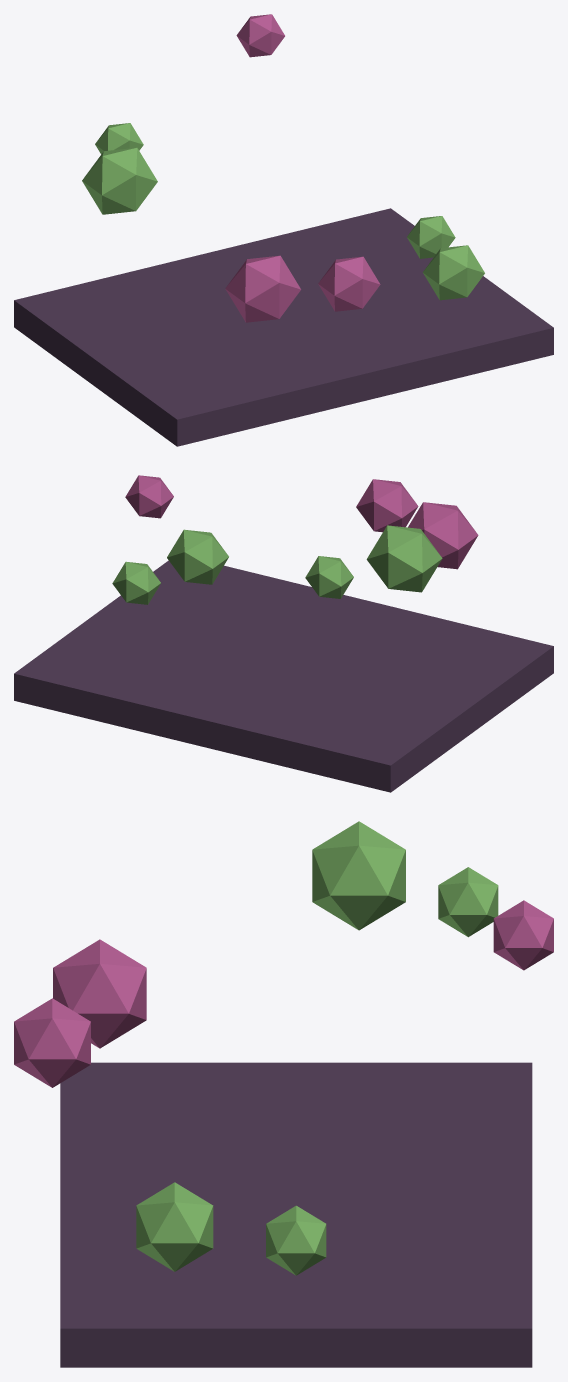
File: firefly_grove.glb
3 views of the same model, one above another, from view 1: azimuth 30°, elevation 25°; view 2: azimuth 150°, elevation 25°; view 3: azimuth 270°, elevation 25° (orthographic). The views are drawn at different scales.
Visible parts, largest first — view 1: habitat_base, seed_5, seed_2, seed_1, seed_4, seed_3, seed_0, seed_6; view 2: habitat_base, seed_2, seed_5, seed_4, seed_1, seed_3, seed_0, seed_6; view 3: habitat_base, seed_2, seed_5, seed_4, seed_1, seed_3, seed_0, seed_6.
Boxes of the visible parts, left/top/right/bottom form: habitat_base: left=14, top=208, right=553, bottom=446; seed_5: left=225, top=255, right=300, bottom=322; seed_2: left=82, top=147, right=157, bottom=214; seed_1: left=318, top=256, right=380, bottom=311; seed_4: left=423, top=245, right=484, bottom=300; seed_3: left=236, top=14, right=284, bottom=57; seed_0: left=407, top=216, right=455, bottom=258; seed_6: left=95, top=123, right=143, bottom=154; habitat_base: left=14, top=560, right=553, bottom=792; seed_2: left=366, top=525, right=442, bottom=592; seed_5: left=408, top=502, right=478, bottom=569; seed_4: left=167, top=529, right=228, bottom=584; seed_1: left=356, top=479, right=418, bottom=532; seed_3: left=125, top=475, right=173, bottom=518; seed_0: left=112, top=561, right=160, bottom=604; seed_6: left=305, top=556, right=353, bottom=598; habitat_base: left=60, top=1062, right=532, bottom=1367; seed_2: left=312, top=821, right=405, bottom=930; seed_5: left=53, top=939, right=146, bottom=1048; seed_4: left=136, top=1182, right=213, bottom=1271; seed_1: left=14, top=998, right=90, bottom=1087; seed_3: left=493, top=900, right=553, bottom=970; seed_0: left=266, top=1205, right=326, bottom=1275; seed_6: left=438, top=867, right=498, bottom=937.
Size of what is drawn, in the model's own units: 3.2 by 2.05 by 2.75.
